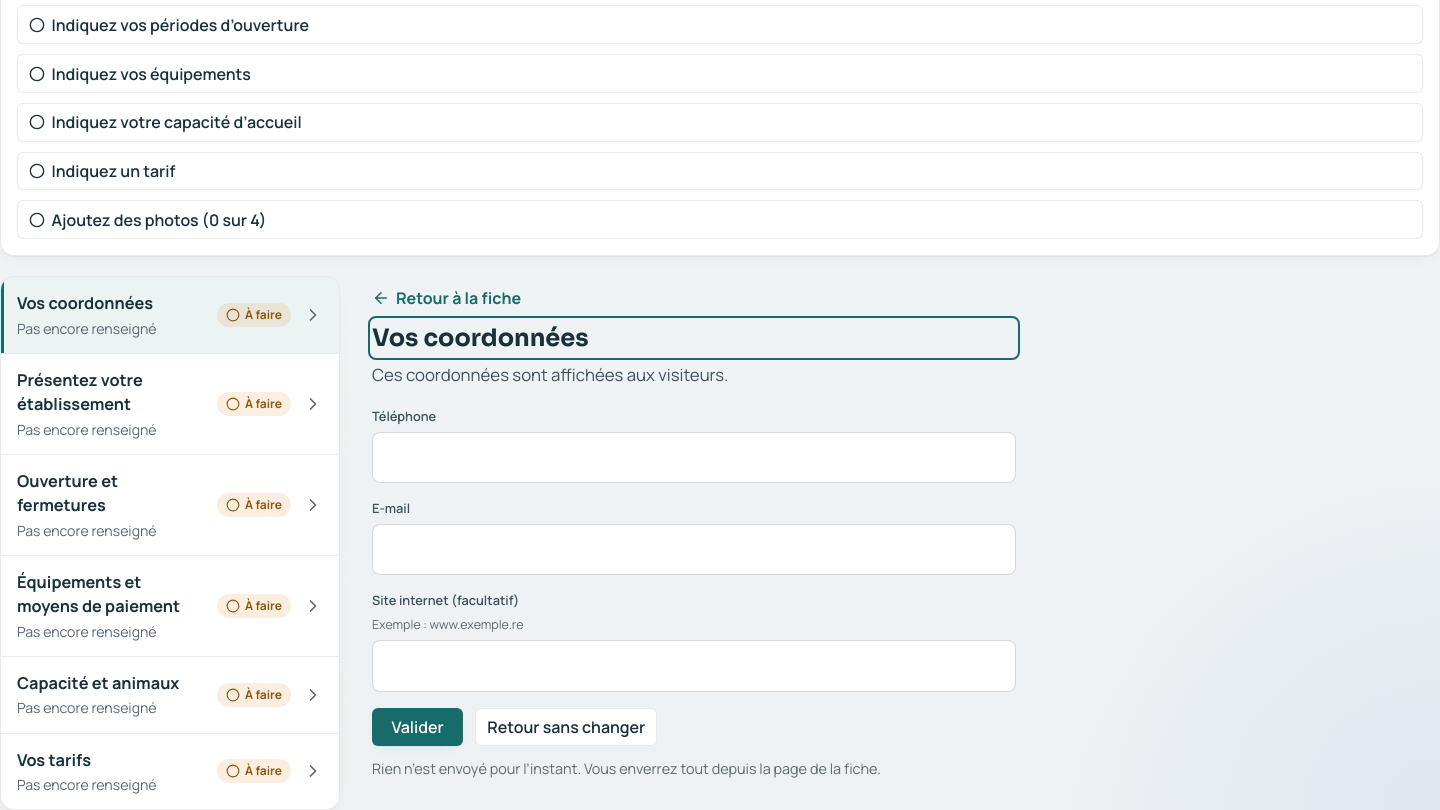
Scenario: PortalFicheHub — la liste des rubriques › cliquer une AUTRE rubrique dans la liste, formulaire en cours, demande avant de sortir
(page scrolled)
Type "0692" into the field labelled "Téléphone" at (694, 458), box [372,432,1016,483]
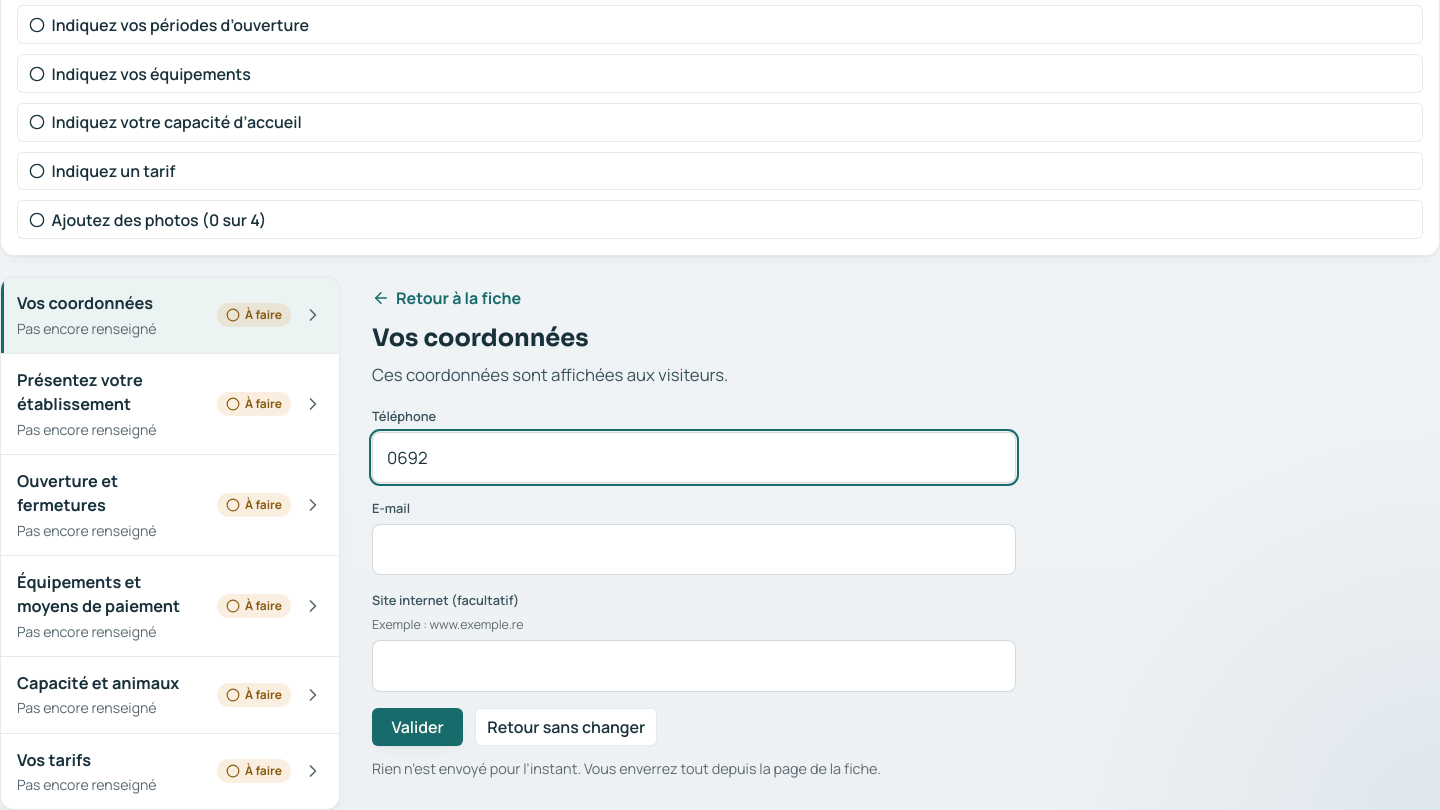
Click the text "Vos tarifs" at (54, 760), box [17,749,91,771]
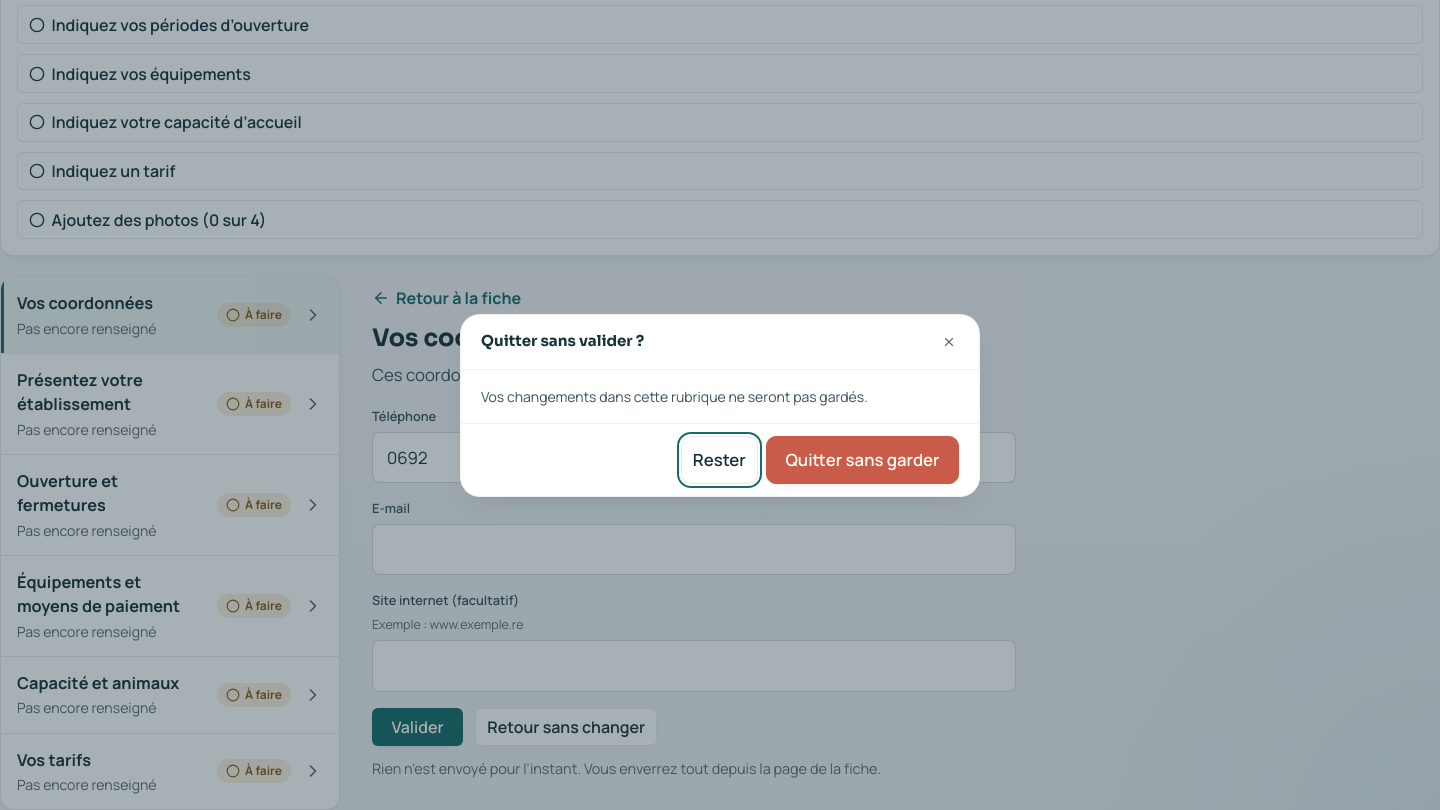
expect the dialog "Quitter sans valider ?" is shown: met, box [460,314,980,496]
